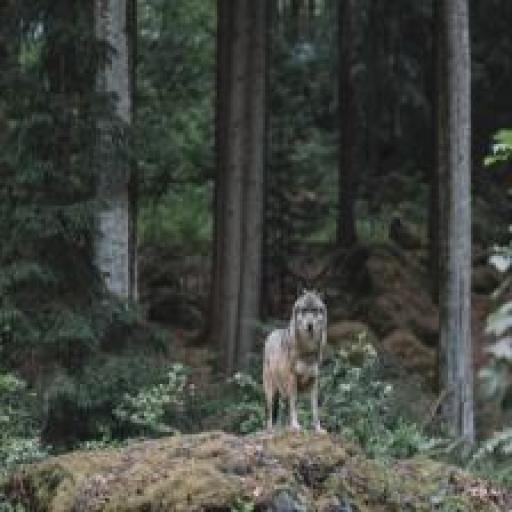wolf: (252, 276, 340, 431)
